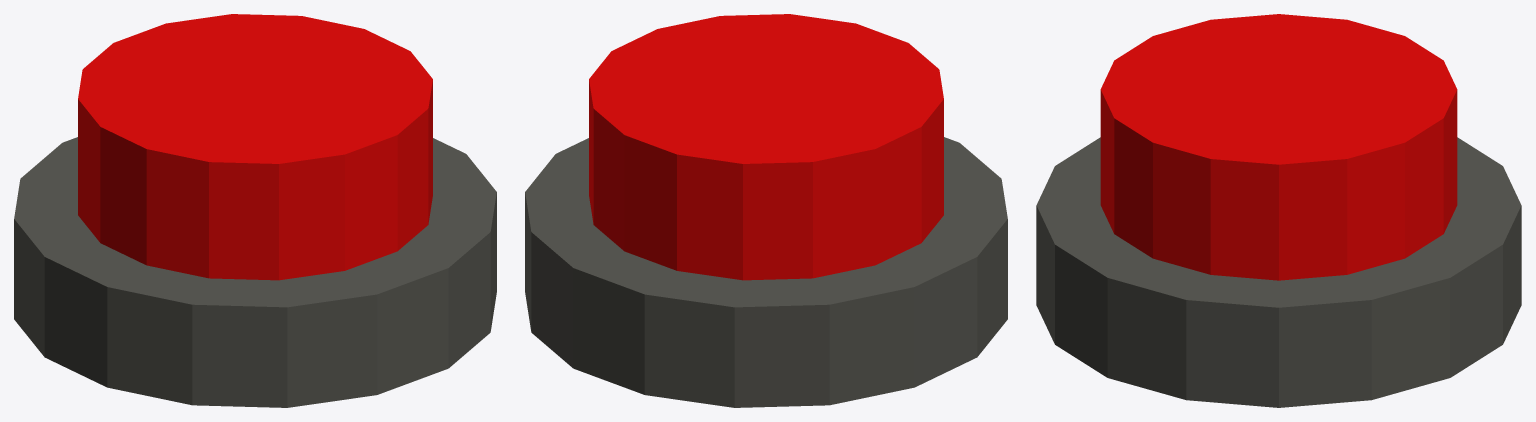
The model's file is button.fbx.
3 renders of one model, left to right at view 1: azimuth 30°, elevation 25°; view 2: azimuth 150°, elevation 25°; view 3: azimuth 270°, elevation 25°, orthographic.
Visible parts, largest first — view 1: Cylinder; view 2: Cylinder; view 3: Cylinder.
Boxes of the visible parts, x1,y1,x2,y2 form: Cylinder: [14, 14, 496, 407]; Cylinder: [525, 14, 1007, 407]; Cylinder: [1036, 14, 1521, 407].
Bounding box in the file's own units: 200 × 98.34 × 200.
